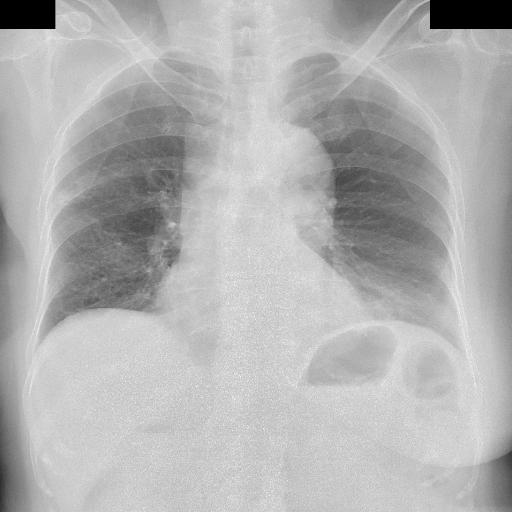Aortic enlargement: (202, 74, 292, 171)
Pulmonary fibrosis: (41, 180, 69, 194)
